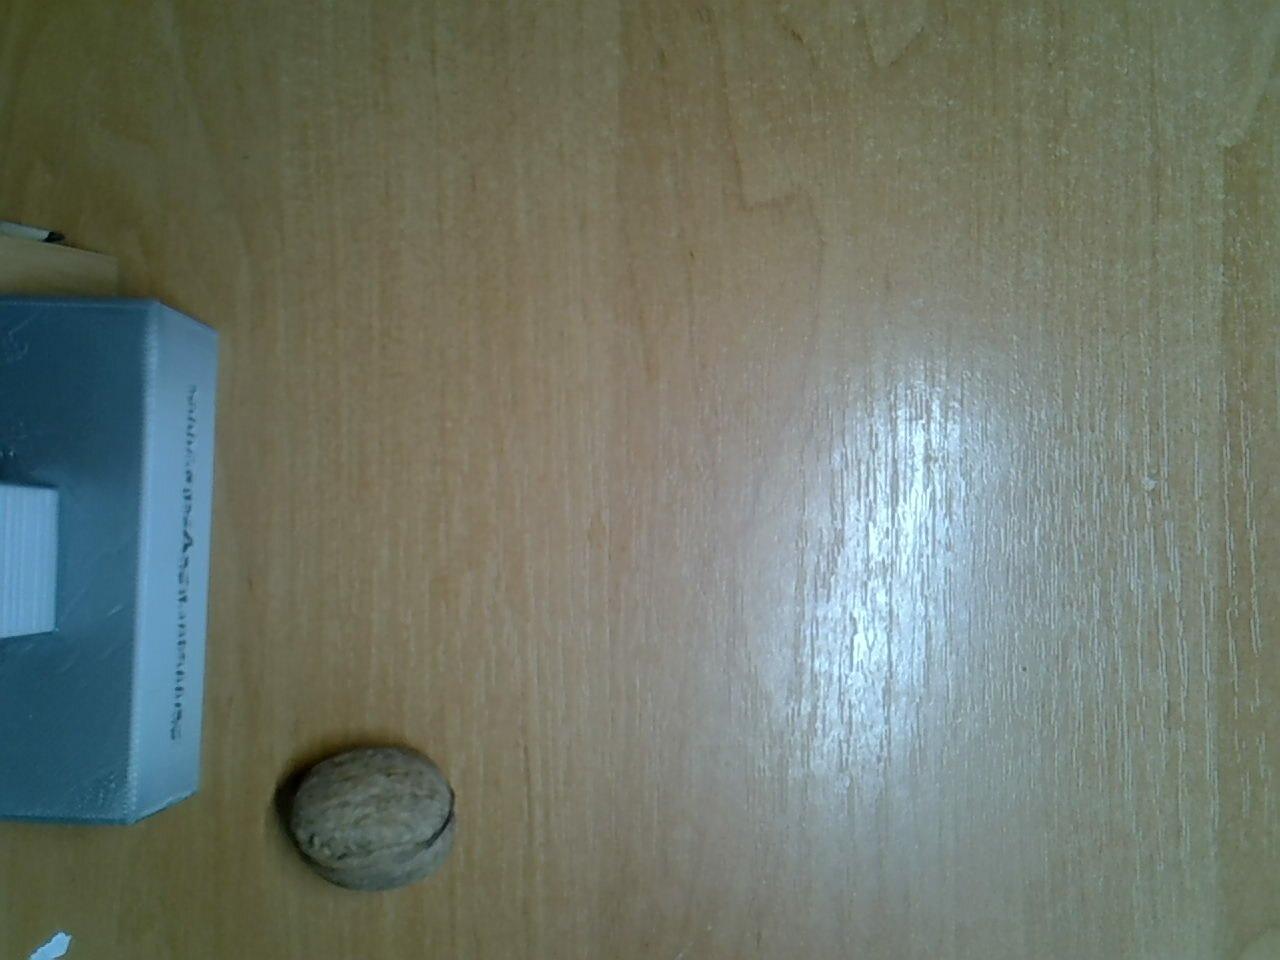nut: (285, 741, 465, 894)
